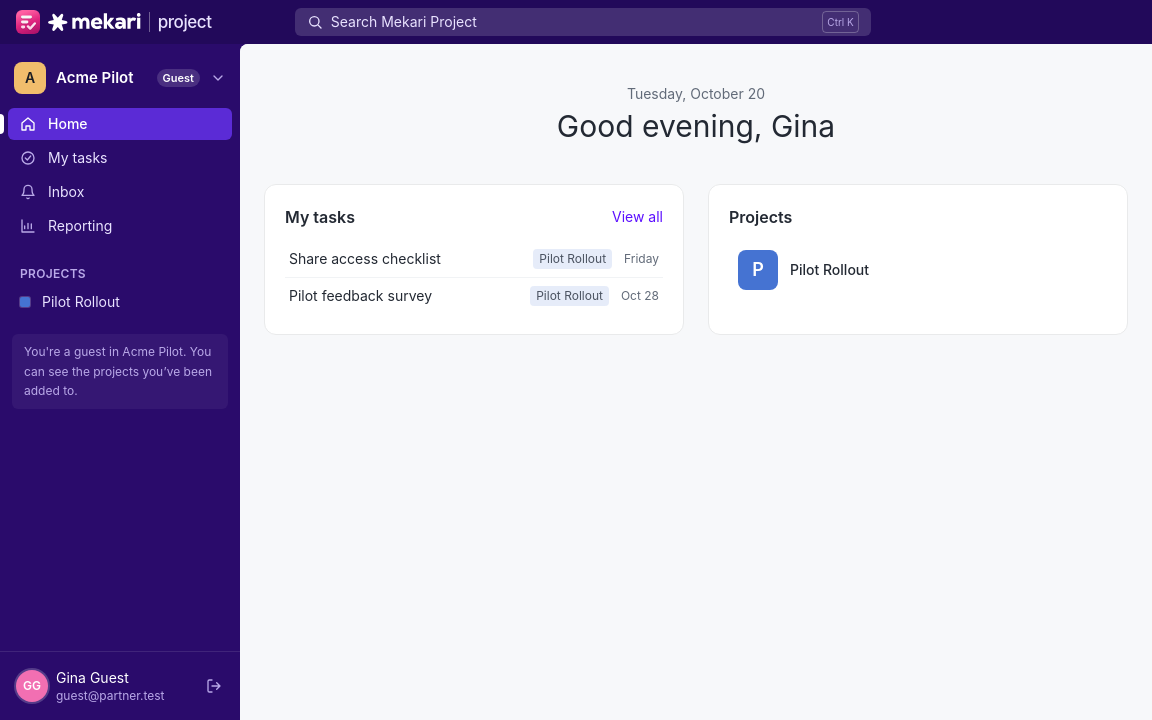
Test: guest experience (e2e spec 09 selectors) › shows the Guest pill and note, only their project, and hides member-only features
expect the button with aria-label "Workspace menu" shows "Acme Pilot": met, box [8,56,232,100]
expect the text "Guest" is shown: met, box [157,69,200,87]
Click the link "Pilot Rollout".
click(70, 302)  # box [20,293,120,310]
(page scrolled)
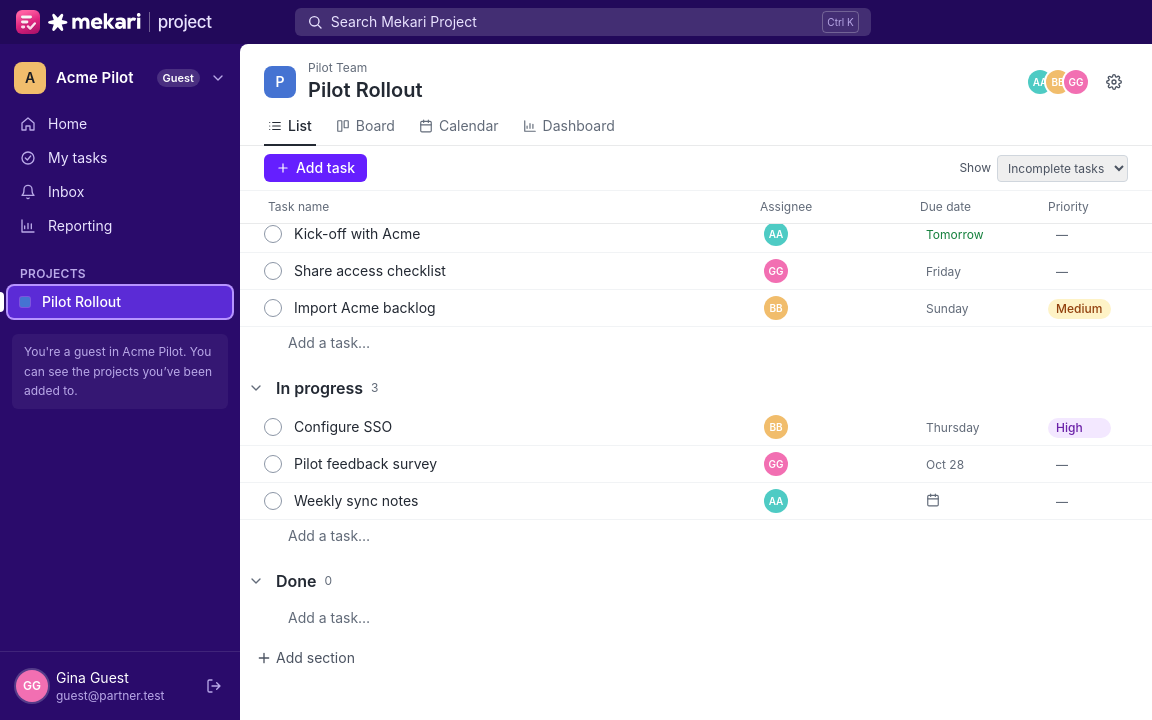
expect the heading "Pilot Rollout" is shown: met, box [308,78,423,102]
expect the table named "Pilot Rollout tasks" is shown: met, box [240,191,1151,719]
